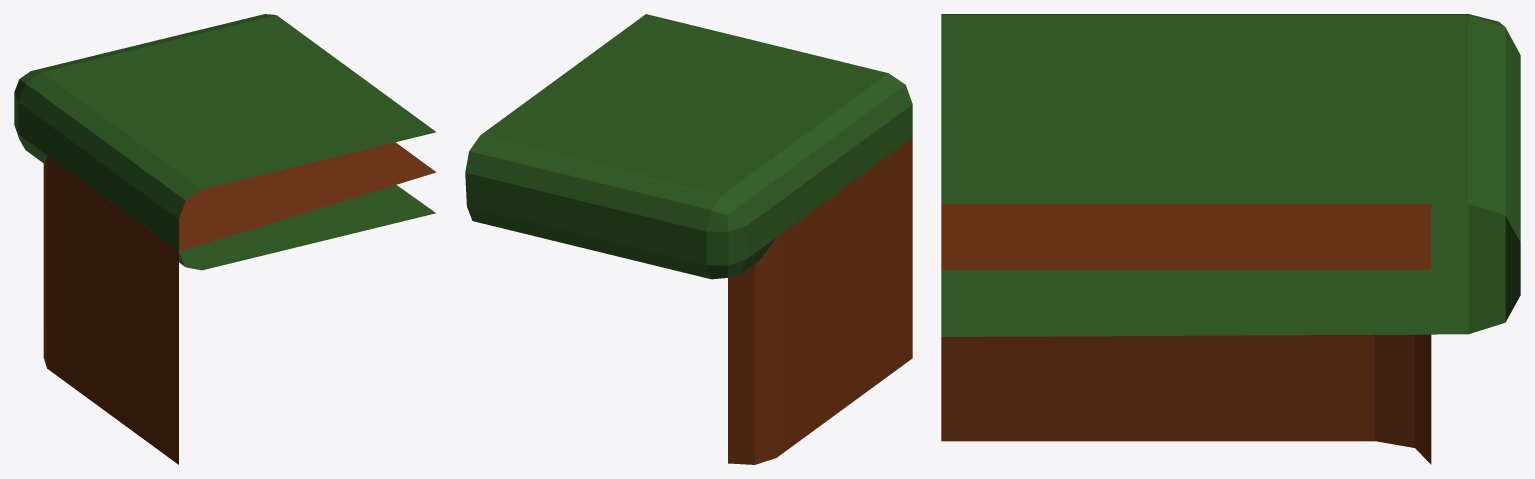
File: LeftLeftUp.fbx
3 renders of one model, left to right at view 1: azimuth 30°, elevation 25°; view 2: azimuth 150°, elevation 25°; view 3: azimuth 270°, elevation 25°, orthographic. The views are drawn at different scales.
Visible parts, largest first — view 1: LeftLeftUp; view 2: LeftLeftUp; view 3: LeftLeftUp.
Part boxes in pixels (x1,y1,x2,y2): LeftLeftUp: [14, 14, 436, 464]; LeftLeftUp: [465, 14, 912, 464]; LeftLeftUp: [941, 14, 1520, 464].
Size of the model in its own units: 200 by 200 by 236.
